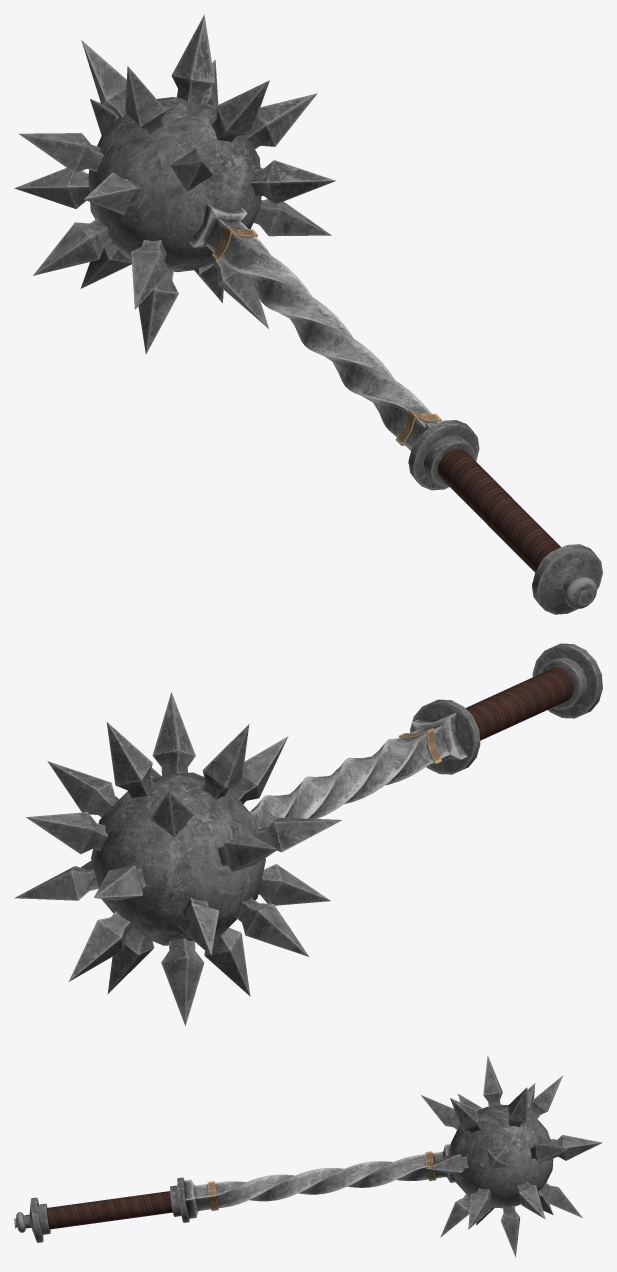
File: hammer.glb
3 renders of one model, top to bottom at view 1: azimuth 30°, elevation 25°; view 2: azimuth 150°, elevation 25°; view 3: azimuth 270°, elevation 25°, orthographic. The views are drawn at different scales.
Parts seen in each view (by area): view 1: peak_1_low.003, ball_low.003, spiral_low.003, hand_low.003, apple_low.003, cnt_low.003; view 2: peak_1_low.003, ball_low.003, spiral_low.003, hand_low.003, apple_low.003, cnt_low.003; view 3: peak_1_low.003, ball_low.003, spiral_low.003, hand_low.003, apple_low.003, cnt_low.003.
Boxes of the visible parts, <box> form: peak_1_low.003: <box>14,14,335,354</box>; ball_low.003: <box>88,97,261,272</box>; spiral_low.003: <box>189,203,439,463</box>; hand_low.003: <box>437,449,561,572</box>; apple_low.003: <box>532,544,602,614</box>; cnt_low.003: <box>408,420,479,490</box>; peak_1_low.003: <box>14,692,342,1025</box>; ball_low.003: <box>91,772,265,945</box>; spiral_low.003: <box>251,713,467,829</box>; hand_low.003: <box>465,667,573,740</box>; apple_low.003: <box>532,643,602,718</box>; cnt_low.003: <box>410,699,480,774</box>; peak_1_low.003: <box>421,1055,602,1257</box>; ball_low.003: <box>450,1104,553,1208</box>; spiral_low.003: <box>183,1144,455,1218</box>; hand_low.003: <box>46,1191,172,1229</box>; apple_low.003: <box>14,1197,50,1242</box>; cnt_low.003: <box>170,1177,189,1222</box>.
Bounding box in the file's own units: 0.2744 × 0.2716 × 0.86.
1 material, 1 textured.
